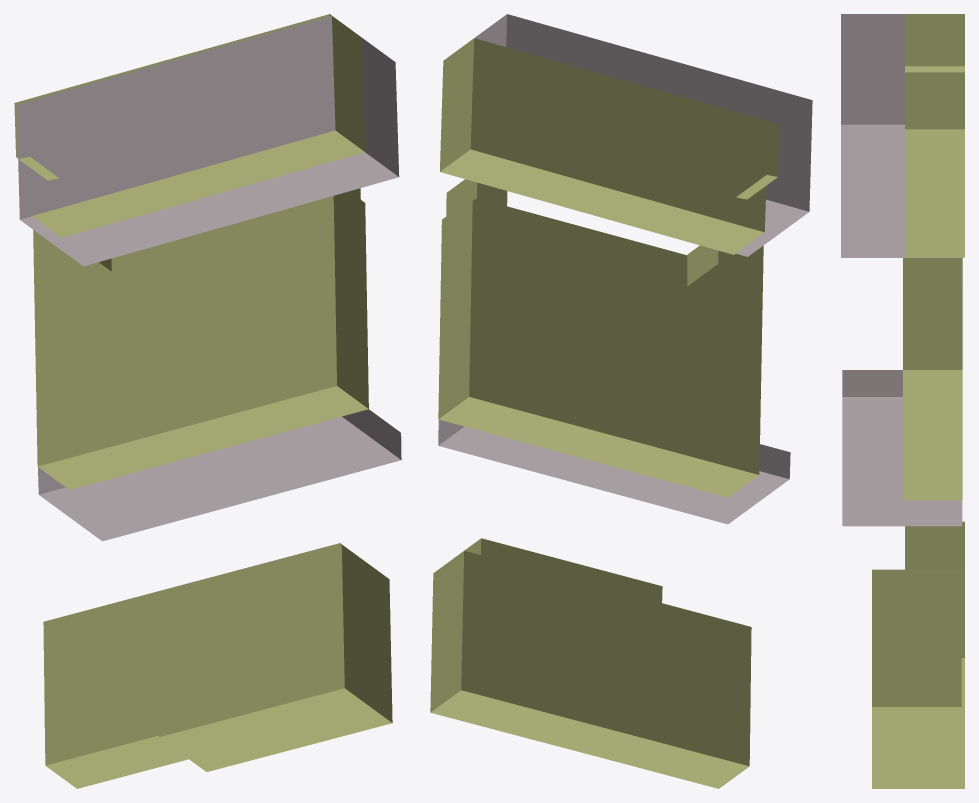
3 views of the same model, side by side, from view 1: azimuth 30°, elevation 25°; view 2: azimuth 150°, elevation 25°; view 3: azimuth 270°, elevation 25° (orthographic). The views are drawn at different scales.
Visible parts, largest first — view 1: 0_1_2_0_3_3_1_0; view 2: 0_1_2_0_3_3_1_0; view 3: 0_1_2_0_3_3_1_0.
Part boxes in pixels (box(x1,y1,x2,y2)): 0_1_2_0_3_3_1_0: box(14, 14, 401, 788); 0_1_2_0_3_3_1_0: box(430, 14, 812, 788); 0_1_2_0_3_3_1_0: box(841, 14, 964, 788).
Size of the model in its own units: 35.74 by 70.91 by 12.41.
